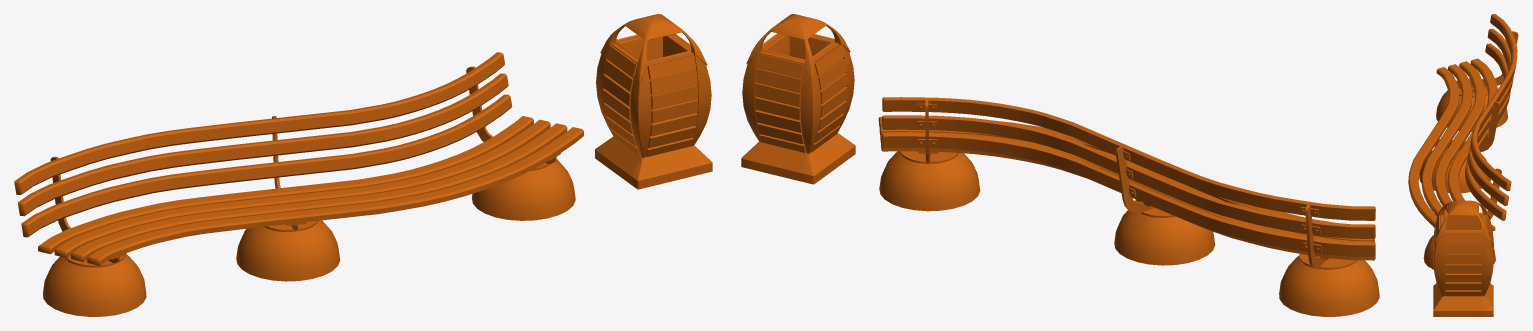
Rendered from bench_1.fbx.
3 renders of one model, left to right at view 1: azimuth 30°, elevation 25°; view 2: azimuth 150°, elevation 25°; view 3: azimuth 270°, elevation 25°, orthographic. The views are drawn at different scales.
Parts seen in each view (by area): view 1: Bench_1, Bin_1; view 2: Bench_1, Bin_1; view 3: Bench_1, Bin_1.
Boxes of the visible parts, left/top/right/bottom form: Bench_1: left=14, top=52, right=583, bottom=316; Bin_1: left=595, top=14, right=712, bottom=189; Bench_1: left=878, top=97, right=1379, bottom=316; Bin_1: left=741, top=14, right=855, bottom=184; Bench_1: left=1408, top=14, right=1518, bottom=269; Bin_1: left=1433, top=200, right=1493, bottom=316.
Bounding box in the file's own units: 521 × 111 × 109.
